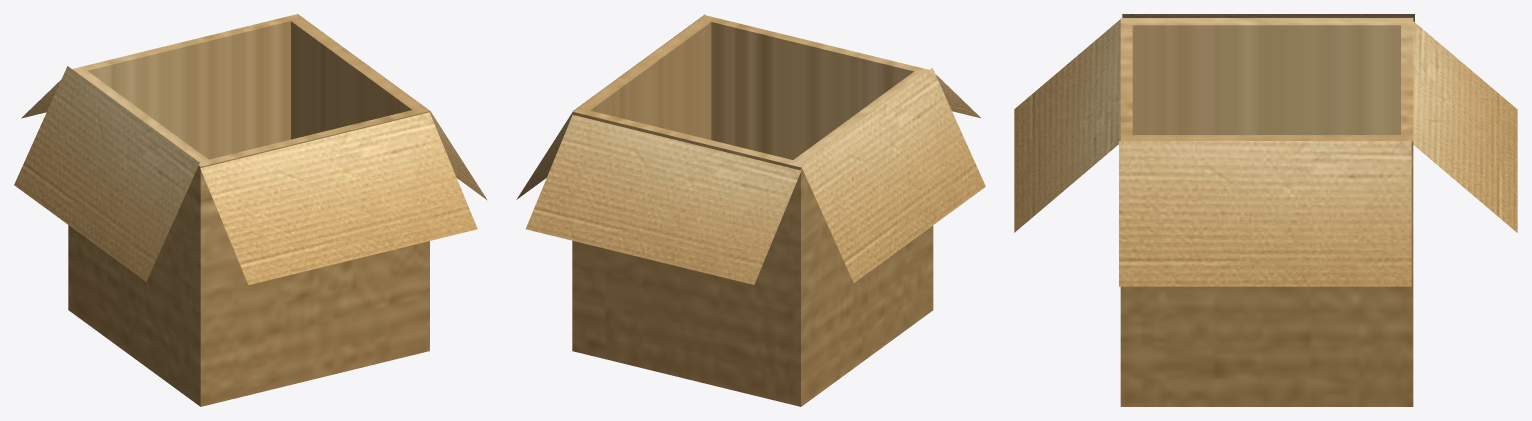
The model's file is krabice.glb.
The picture shows the model from 3 angles, left to right: view 1: azimuth 30°, elevation 25°; view 2: azimuth 150°, elevation 25°; view 3: azimuth 270°, elevation 25°; orthographic projection. The views are drawn at different scales.
Parts seen in each view (by area): view 1: Cube; view 2: Cube; view 3: Cube.
Boxes of the visible parts, box(x1,y1,x2,y2) form: Cube: box(14, 14, 487, 406); Cube: box(516, 14, 985, 406); Cube: box(1014, 14, 1517, 406).
Bounding box in the file's own units: 2.97 × 2.03 × 3.44.
Materials: 1 (1 with a texture image).
